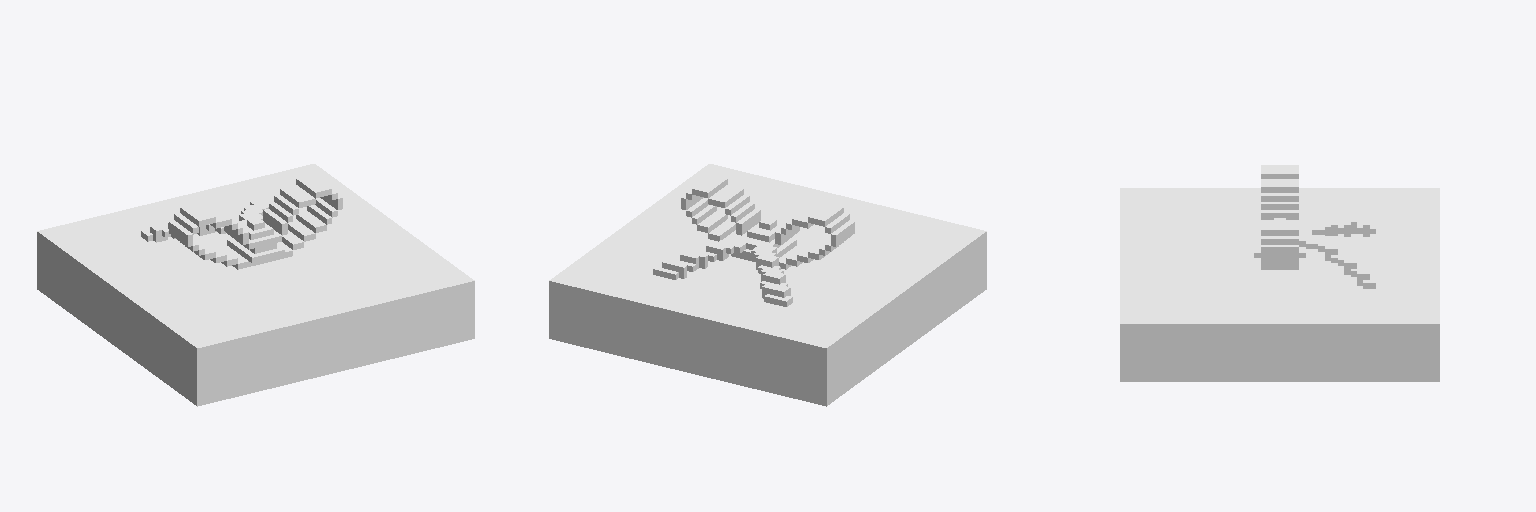
The model's file is boxcap 1.obj.
3 renders of one model, left to right at view 1: azimuth 30°, elevation 25°; view 2: azimuth 150°, elevation 25°; view 3: azimuth 270°, elevation 25°, orthographic.
Parts seen in each view (by area): view 1: boxcap; view 2: boxcap; view 3: boxcap.
Part boxes in pixels (bbox=[...]): boxcap: bbox=[37, 164, 474, 406]; boxcap: bbox=[549, 164, 986, 406]; boxcap: bbox=[1120, 165, 1439, 381].
Bounding box in the file's own units: 50 × 20 × 50.